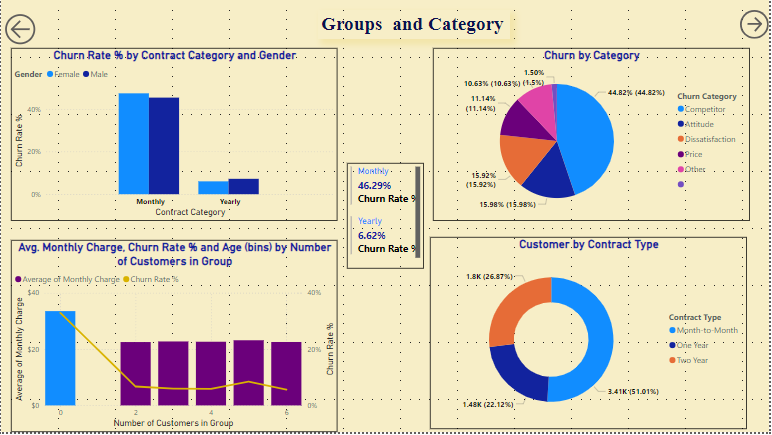

What the dashboard file says about the page in this screenshot:
{"tool":"powerbi","page":{"name":"Groups  and Gategory","canvas":[1280,720],"ordinal":2},"visuals":[{"type":"pieChart","title":"Churn by Category","fields":{"Category":["Databel - Data.Churn Category"],"Y":["__Measures.Number  of churned Customers"]},"box":[720,80,528,288],"z":0},{"type":"lineStackedColumnComboChart","title":"Avg. Monthly Charge, Churn Rate % and Age (bins) by Number of Customers in Group","fields":{"Category":["Databel - Data.Number of Customers in Group"],"Y":["Avg(Databel - Data.Monthly Charge)"],"Y2":["__Measures.Churn Rate %"]},"box":[16,400,544,320],"z":1000},{"type":"clusteredColumnChart","fields":{"Category":["Databel - Data.Contract Category"],"Y":["__Measures.Churn Rate %"],"Series":["Databel - Data.Gender"]},"box":[16,80,544,288],"z":2000},{"type":"donutChart","title":" Customer by Contract Type","fields":{"Series":["Databel - Data.Contract Type"],"Y":["CountNonNull(Databel - Data.Customer ID)"]},"box":[715.3,395,528,320],"z":3000},{"type":"multiRowCard","fields":{"Values":["Databel - Data.Contract Category","__Measures.Churn Rate %"]},"box":[576,272,128,176],"z":4000},{"type":"actionButton","box":[0,16,64,64],"z":5000},{"type":"actionButton","box":[1232,16,48,48],"z":6000},{"type":"textbox","box":[528,16,320,48],"z":6001}]}

Visuals, with their boxes in screenshot pixels (x1, y1, x2, y2), scaled from the page's 1280x720 canvas onto the 772x435 screenshot:
"Churn by Category" pieChart: BBox(434, 48, 753, 222)
"Avg. Monthly Charge, Churn Rate % and Age (bins) by Number of Customers in Group" lineStackedColumnComboChart: BBox(10, 242, 338, 434)
clusteredColumnChart - Databel - Data.Contract Category x __Measures.Churn Rate %: BBox(10, 48, 338, 222)
" Customer by Contract Type" donutChart: BBox(431, 239, 750, 432)
multiRowCard - Databel - Data.Contract Category x __Measures.Churn Rate %: BBox(347, 164, 425, 271)
actionButton: BBox(0, 10, 39, 48)
actionButton: BBox(743, 10, 771, 39)
textbox: BBox(318, 10, 511, 39)
